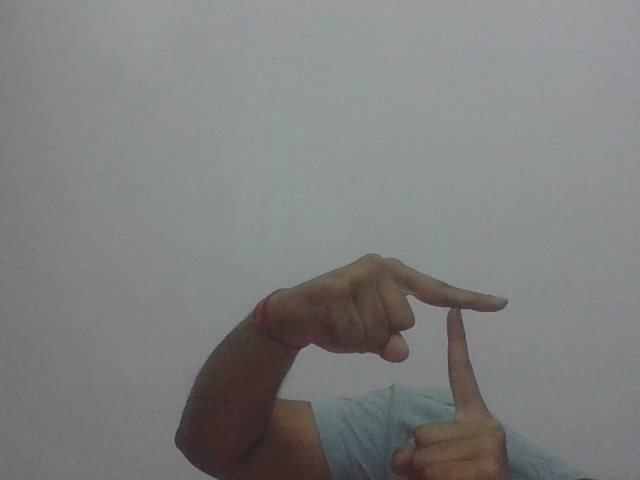T: (289, 249, 516, 480)
